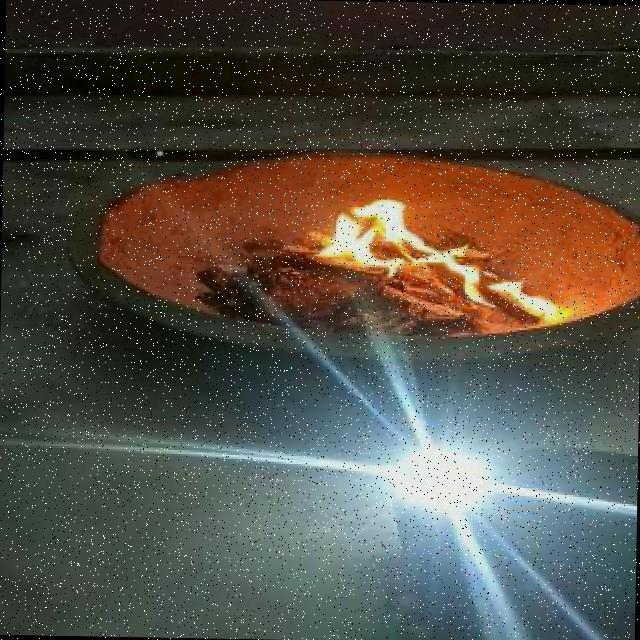Fire: (306, 186, 562, 324)
